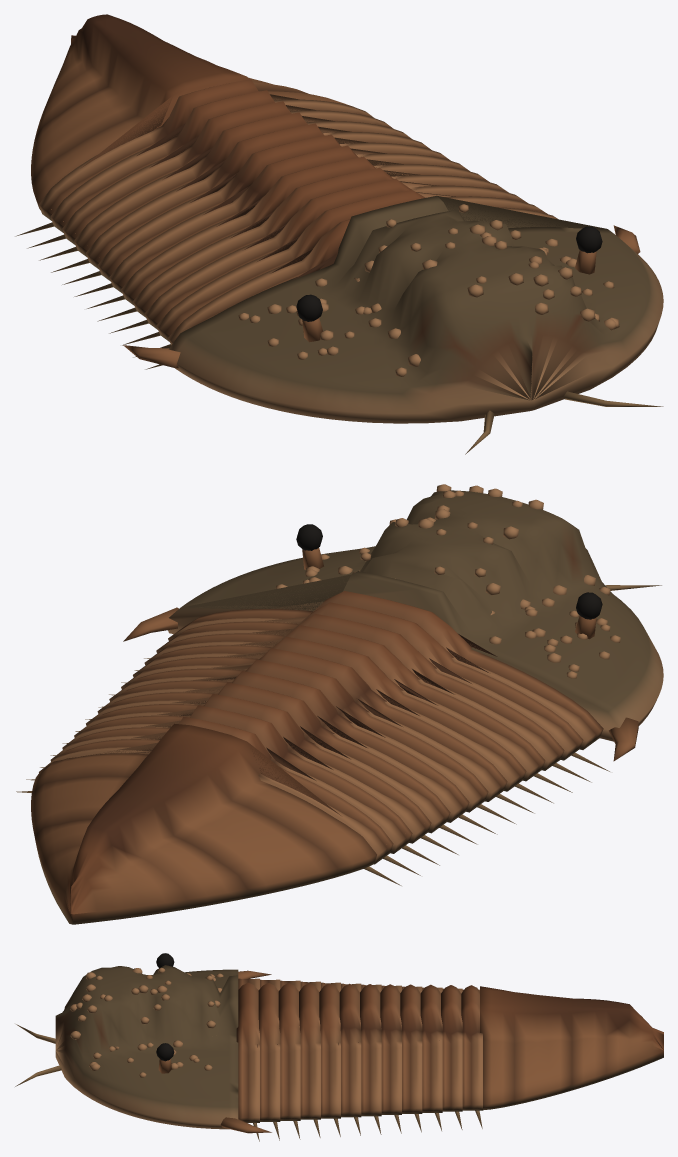
The model's file is EncrinurusPunctatus.fbx.
3 views of the same model, one above another, from view 1: azimuth 30°, elevation 25°; view 2: azimuth 150°, elevation 25°; view 3: azimuth 270°, elevation 25° (orthographic). The views are drawn at different scales.
Parts seen in each view (by area): view 1: EncrinurusPunctatus; view 2: EncrinurusPunctatus; view 3: EncrinurusPunctatus.
Boxes of the visible parts, bbox=[...] form: EncrinurusPunctatus: bbox=[15, 14, 663, 454]; EncrinurusPunctatus: bbox=[16, 484, 663, 924]; EncrinurusPunctatus: bbox=[15, 953, 663, 1141].
Bounding box in the file's own units: 0.9949 × 0.2611 × 1.71.
